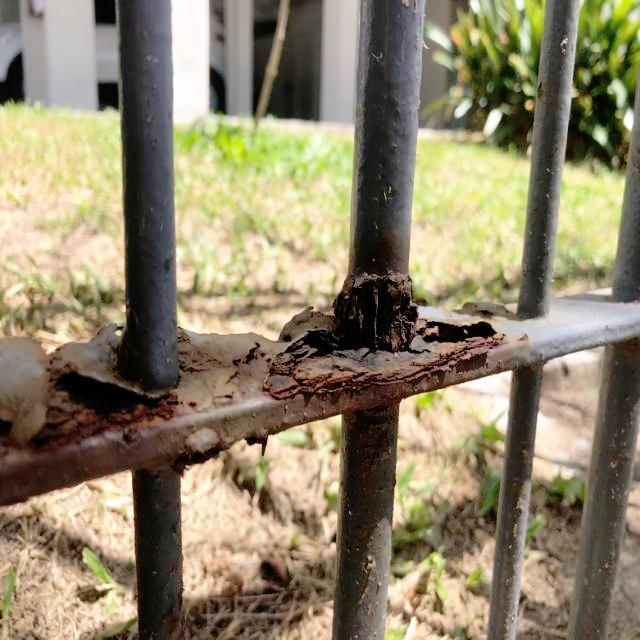Corrosion: (0, 266, 534, 515)
